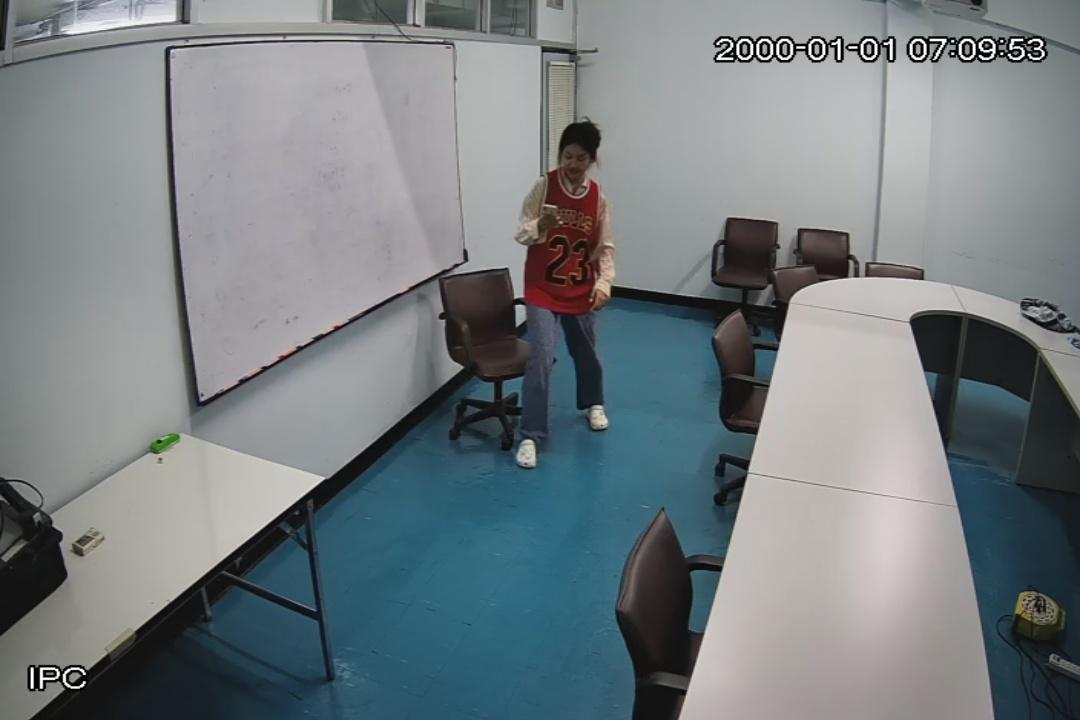normal: (513, 121, 614, 467)
